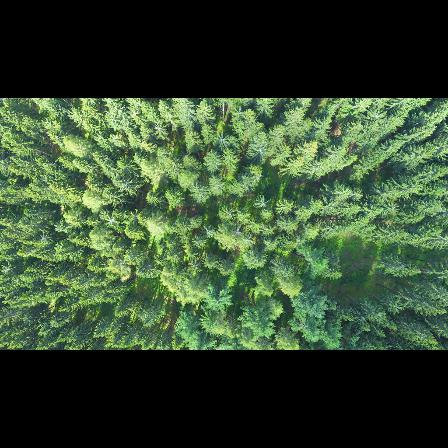Sick: (252, 141, 269, 159), (101, 211, 118, 227), (369, 106, 386, 122), (253, 196, 272, 210), (214, 130, 230, 146), (37, 234, 54, 245), (203, 224, 216, 237), (231, 224, 245, 236)
